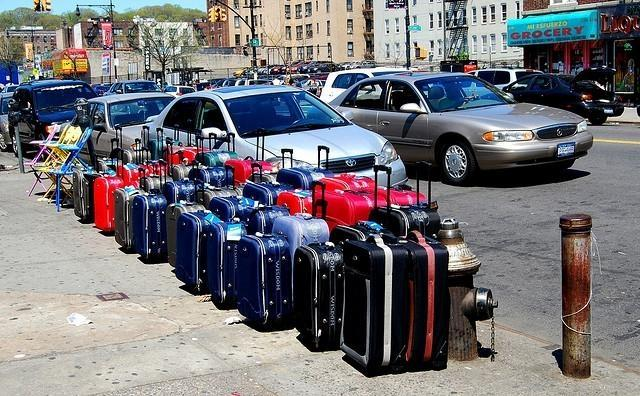car: (328, 71, 594, 188), (140, 84, 410, 189), (5, 81, 98, 156), (506, 68, 622, 126), (89, 92, 176, 162), (320, 66, 418, 104), (469, 68, 544, 92), (104, 80, 164, 96), (0, 92, 13, 154), (232, 77, 274, 88), (164, 86, 197, 99)
